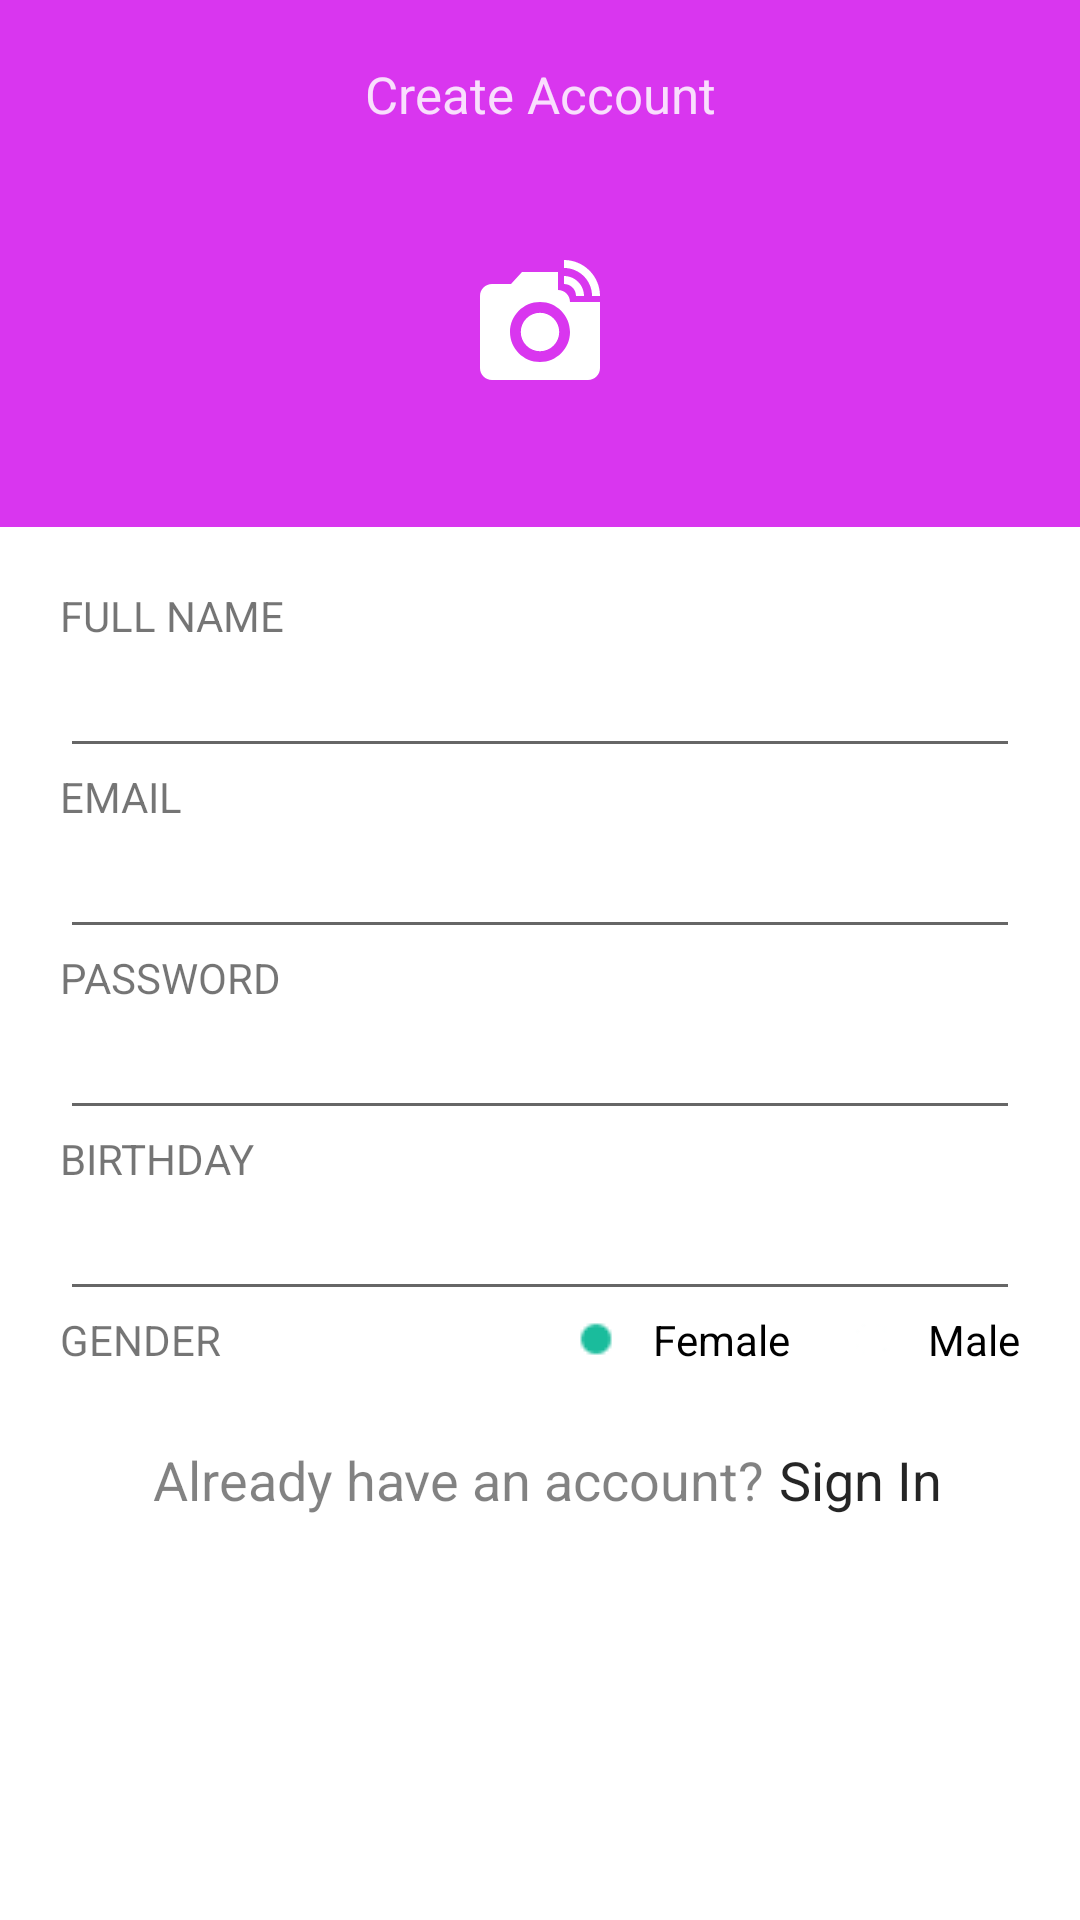

Screen size 1080×1920. Icon name, then its center in pixels as (x,y):
linked camera: (540,320)
